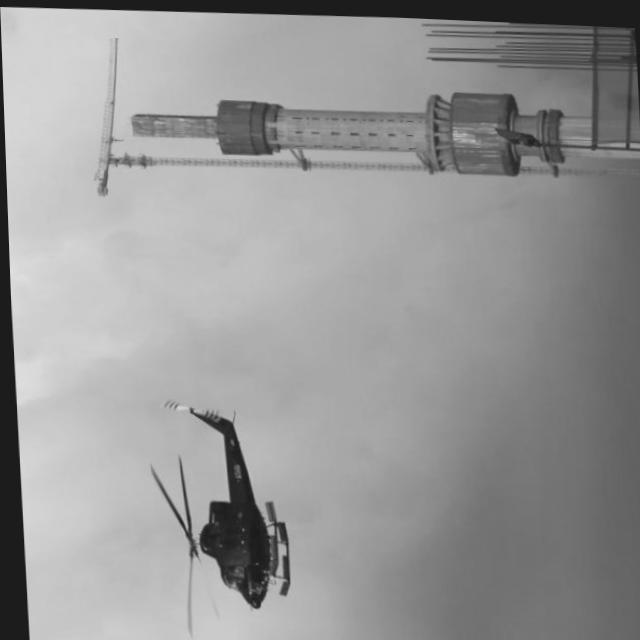helikopter: (127, 381, 332, 640)
